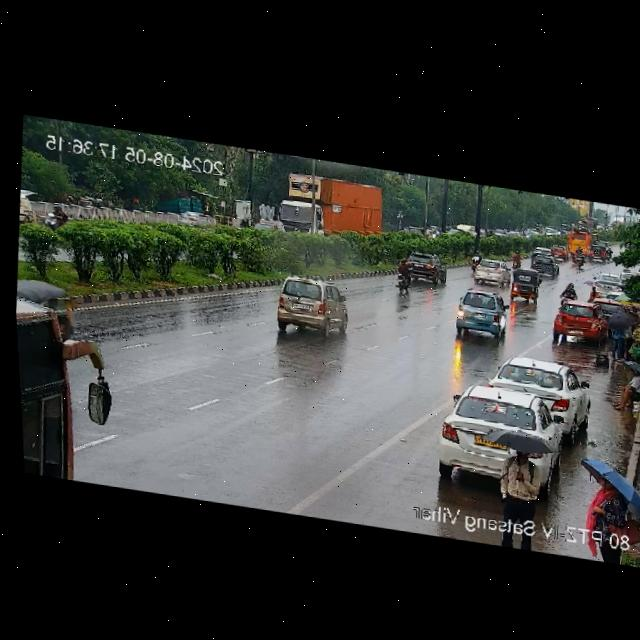bus: (14, 278, 132, 487), (566, 228, 599, 253)
car: (433, 380, 573, 498), (491, 352, 592, 426), (268, 270, 353, 340), (446, 281, 507, 340), (553, 296, 608, 346), (401, 250, 449, 286), (506, 268, 541, 303), (468, 257, 510, 286), (527, 253, 560, 278), (588, 244, 609, 262), (547, 243, 567, 261), (511, 246, 522, 267)
motorcycle: (38, 199, 71, 229), (394, 249, 415, 295), (566, 250, 590, 272), (560, 281, 575, 299)
person: (484, 429, 544, 526), (588, 478, 633, 534), (601, 300, 638, 361), (604, 359, 640, 414), (588, 285, 600, 301)
truck: (266, 163, 393, 249)
